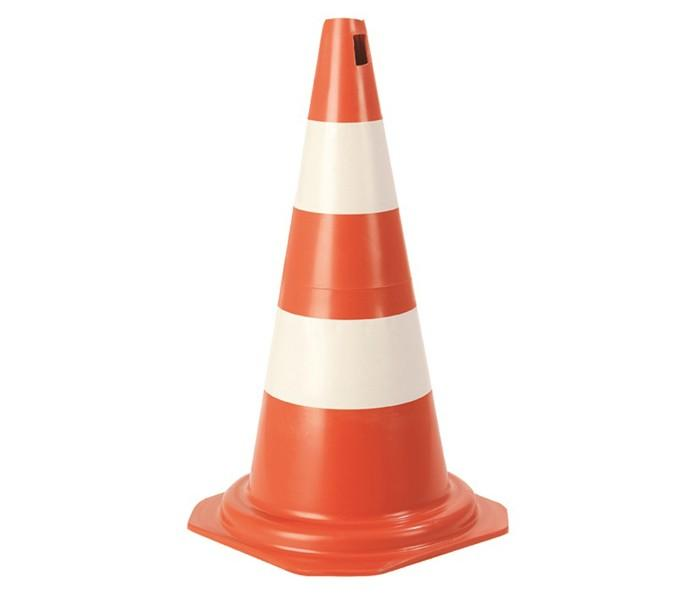traffic_cone: (186, 16, 510, 577)
